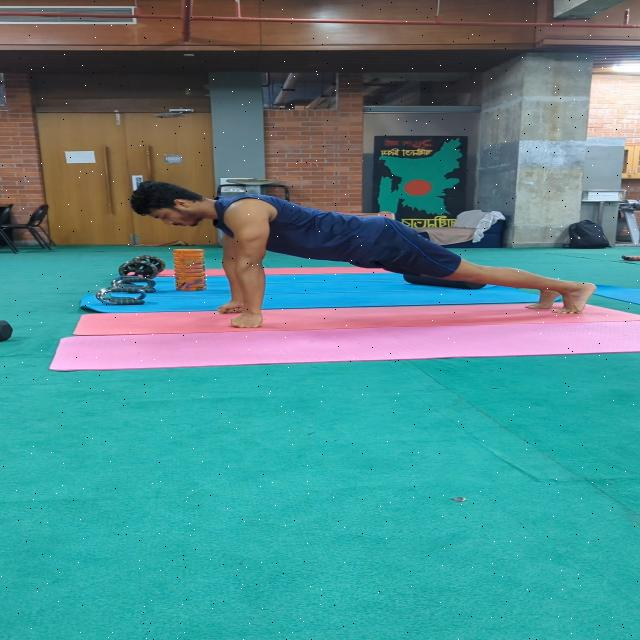Normal_PushUps: (107, 172, 596, 333)
